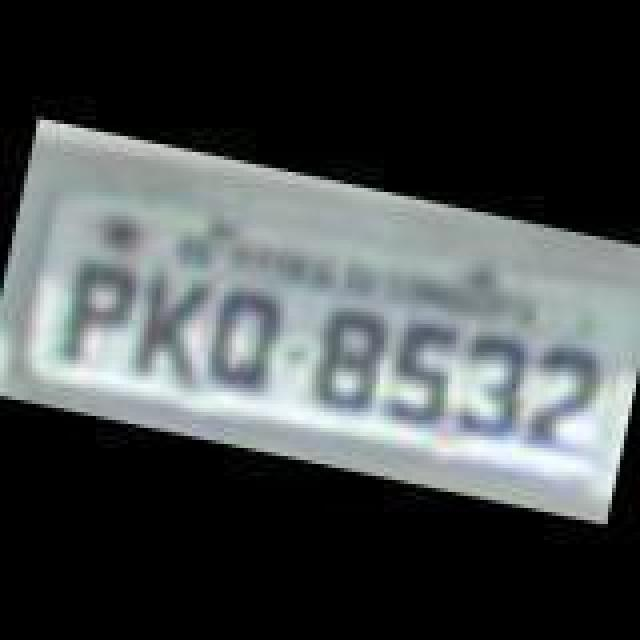2: (516, 336, 604, 464)
3: (446, 324, 530, 444)
5: (384, 312, 464, 432)
8: (306, 302, 390, 418)
K: (130, 268, 214, 388)
P: (54, 252, 138, 372)
Q: (206, 280, 290, 400)
